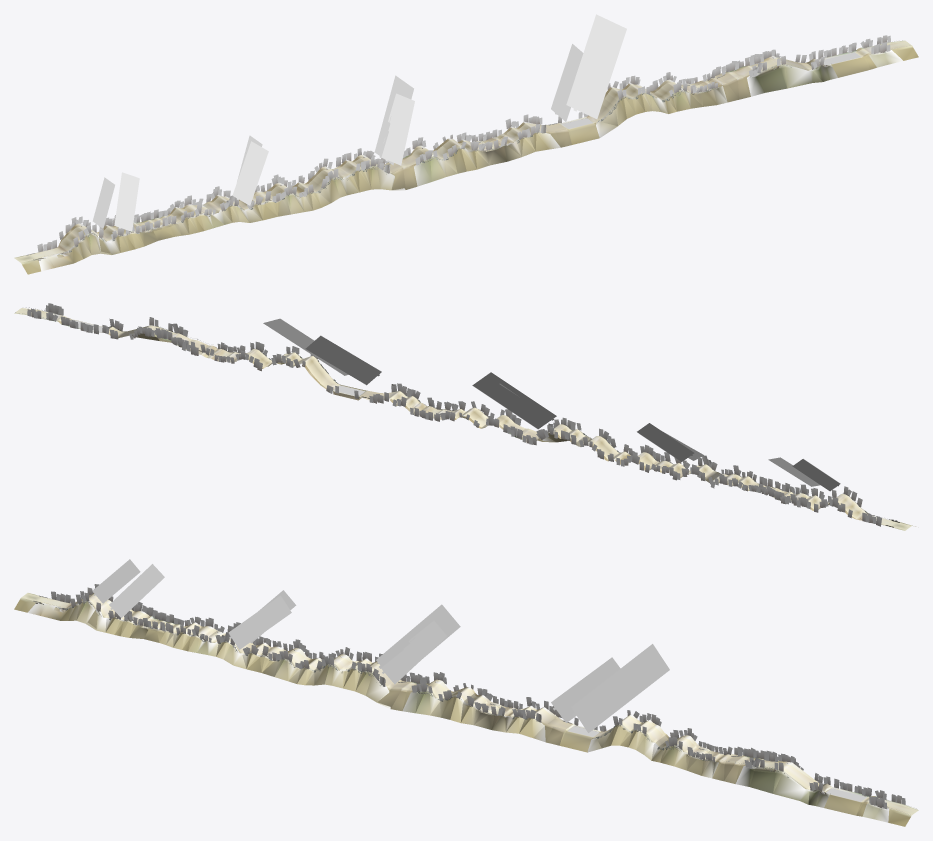
File: Beach_06.fbx
3 views of the same model, one above another, from view 1: azimuth 30°, elevation 25°; view 2: azimuth 150°, elevation 25°; view 3: azimuth 330°, elevation 25° (orthographic).
Visible parts, largest first — view 1: Mountain_01, Light_01, Tree_01, Ground_01, Road_01; view 2: Tree_01, Light_01, Ground_01, Road_01; view 3: Mountain_01, Light_01, Tree_01, Road_01, Ground_01.
Part boxes in pixels (bbox=[...]): Mountain_01: bbox=[38, 50, 902, 271]; Light_01: bbox=[92, 14, 626, 231]; Tree_01: bbox=[37, 35, 890, 260]; Ground_01: bbox=[15, 41, 912, 262]; Road_01: bbox=[14, 40, 918, 274]; Tree_01: bbox=[27, 303, 897, 526]; Light_01: bbox=[263, 318, 840, 491]; Ground_01: bbox=[16, 308, 911, 530]; Road_01: bbox=[14, 308, 915, 530]; Mountain_01: bbox=[27, 600, 889, 822]; Light_01: bbox=[92, 559, 669, 732]; Tree_01: bbox=[35, 584, 905, 809]; Road_01: bbox=[14, 593, 918, 826]; Ground_01: bbox=[21, 593, 916, 815].
Bounding box in the file's own units: 99397 × 10064 × 7107.
